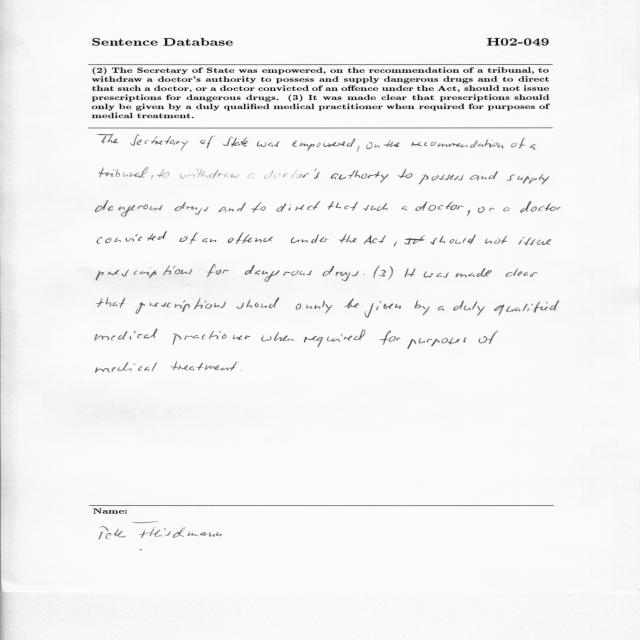word: (135, 298, 226, 314), (96, 265, 192, 280), (96, 200, 163, 217), (245, 265, 312, 282), (172, 331, 251, 345), (304, 330, 365, 348), (494, 300, 559, 316), (130, 134, 189, 151), (411, 139, 503, 149), (97, 231, 167, 244), (292, 138, 356, 151), (331, 170, 389, 183), (95, 329, 157, 341), (404, 235, 476, 245), (407, 337, 467, 349), (95, 362, 157, 373), (264, 168, 320, 179), (365, 301, 401, 318), (180, 169, 239, 179), (228, 232, 273, 244), (323, 266, 359, 281), (99, 168, 149, 178), (277, 201, 321, 212), (520, 201, 560, 213), (453, 301, 485, 316), (507, 174, 550, 185), (237, 298, 280, 309), (296, 301, 332, 314), (419, 175, 464, 185), (175, 202, 209, 215), (415, 202, 464, 211), (291, 235, 329, 244), (455, 268, 492, 277), (261, 332, 294, 342), (379, 330, 401, 345), (327, 201, 358, 211), (97, 298, 126, 308), (171, 362, 203, 371), (205, 362, 237, 371), (207, 265, 229, 278), (470, 171, 498, 181), (218, 203, 246, 213), (223, 136, 248, 147), (478, 331, 498, 344), (519, 237, 551, 245), (506, 269, 538, 277), (414, 301, 430, 316), (180, 233, 199, 245), (98, 134, 119, 144), (363, 203, 388, 211), (364, 235, 386, 244), (485, 235, 507, 244), (379, 266, 393, 280), (200, 136, 215, 148), (511, 138, 526, 149), (251, 202, 266, 213), (339, 234, 357, 243), (344, 299, 359, 309), (398, 169, 412, 179), (257, 141, 279, 147), (478, 206, 495, 213), (157, 169, 169, 178), (384, 140, 399, 147), (405, 268, 416, 277), (367, 142, 380, 149), (373, 266, 380, 279), (202, 238, 216, 243), (436, 273, 449, 278), (424, 272, 433, 278), (530, 144, 536, 150), (503, 207, 510, 212), (248, 173, 254, 178), (402, 206, 408, 211), (438, 306, 444, 311), (357, 146, 360, 152), (467, 210, 470, 216), (394, 242, 397, 247), (151, 175, 153, 179), (364, 274, 365, 275)
